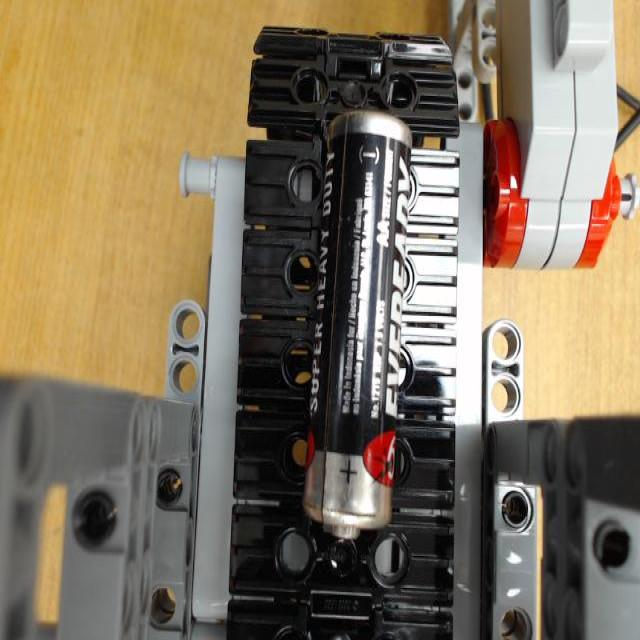AA: (300, 108, 398, 539)
